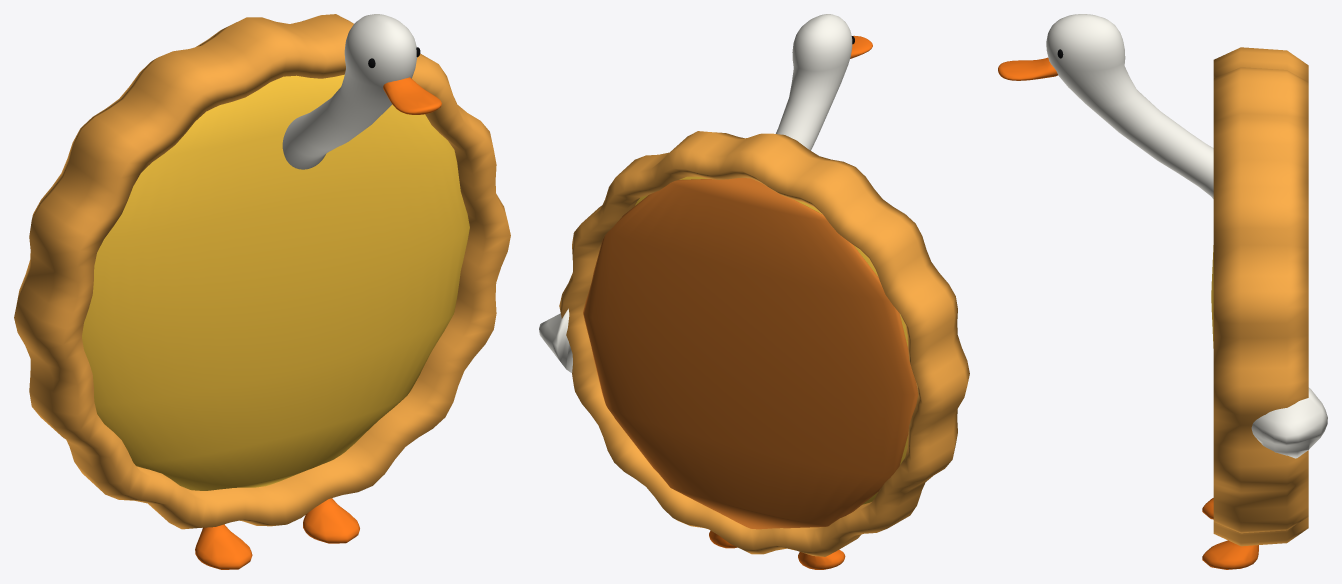
Rendered from duck-eggtart.fbx.
3 renders of one model, left to right at view 1: azimuth 30°, elevation 25°; view 2: azimuth 150°, elevation 25°; view 3: azimuth 270°, elevation 25°, orthographic. The views are drawn at different scales.
Parts seen in each view (by area): view 1: duck-eggtart; view 2: duck-eggtart; view 3: duck-eggtart.
Boxes of the visible parts, x1=… form: duck-eggtart: x1=14, y1=14, x2=510, y2=569; duck-eggtart: x1=539, y1=14, x2=969, y2=569; duck-eggtart: x1=998, y1=14, x2=1327, y2=569.
Bounding box in the file's own units: 88.42 × 100 × 55.98.
